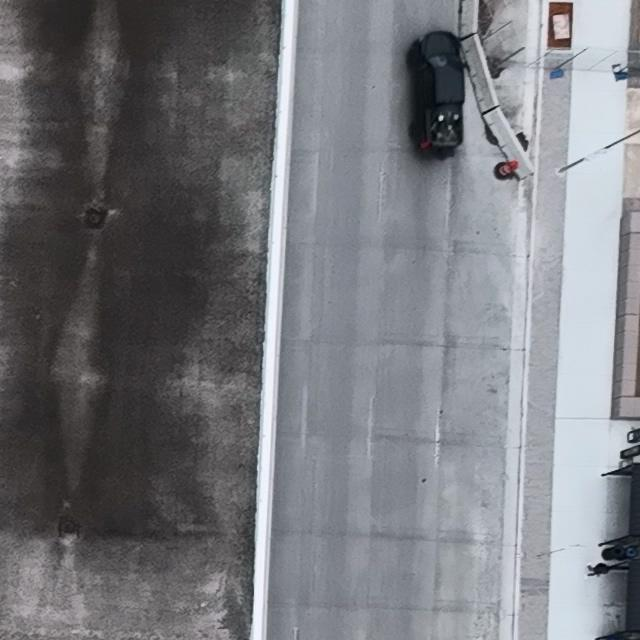car: (407, 31, 469, 159)
